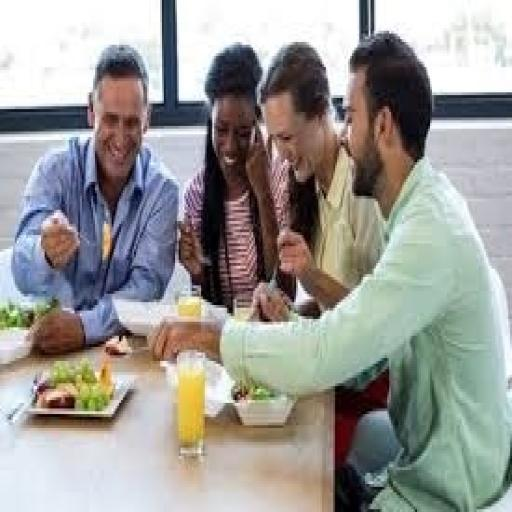eating: (145, 28, 510, 509)
